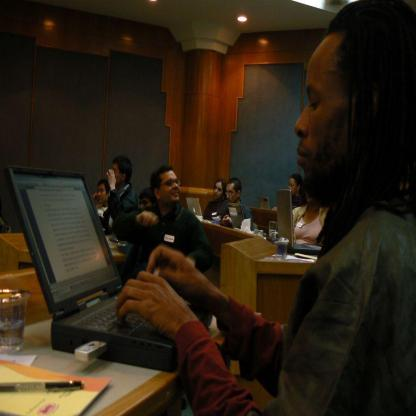board: (3, 168, 212, 376), (276, 189, 322, 255), (227, 202, 244, 229), (185, 198, 205, 220), (258, 196, 270, 210)
